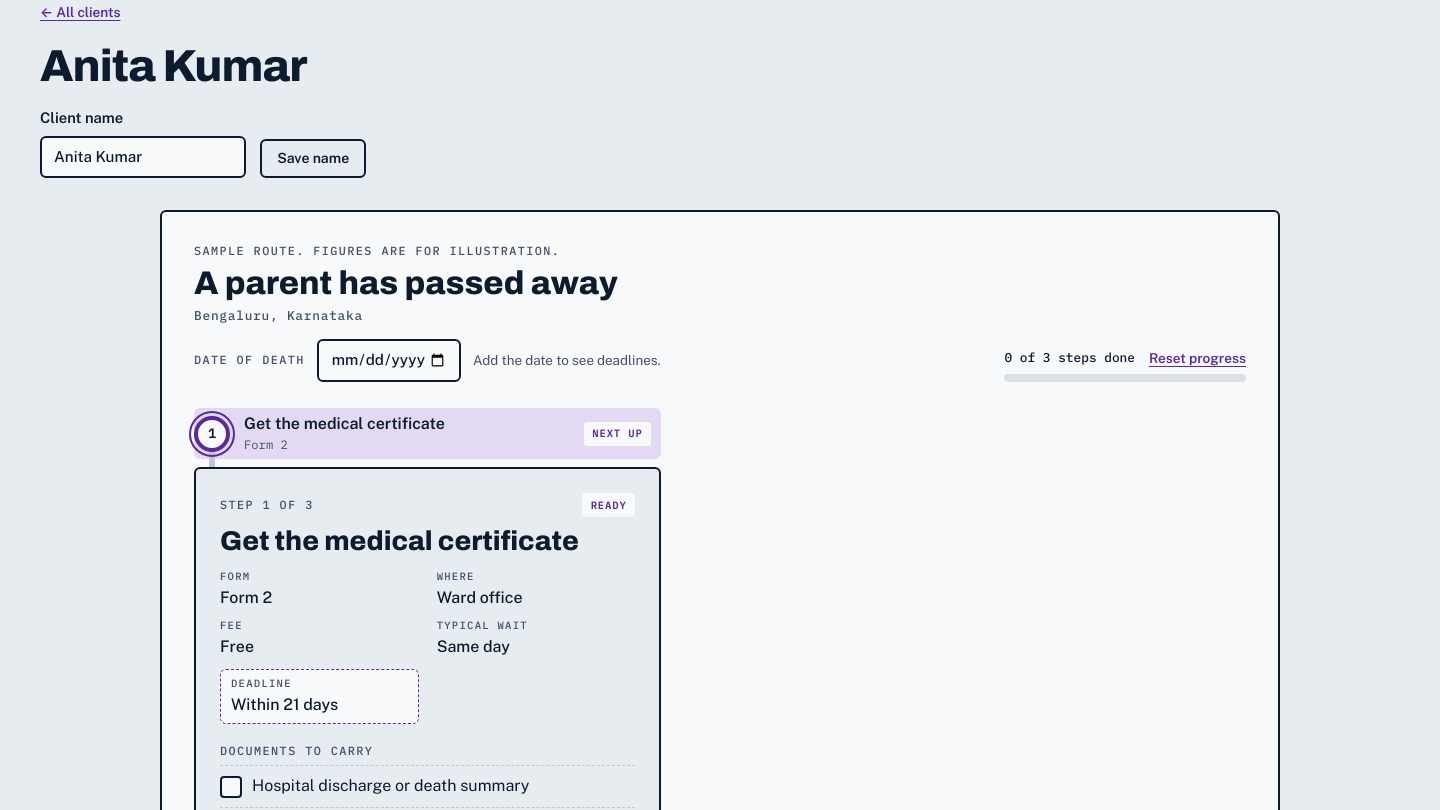
Scenario: ClientPage › renames the client
Replace the text in the field labelled "Client name" with "Anita K." at (143, 157), box top-left (40, 136), bottom-right (246, 178)
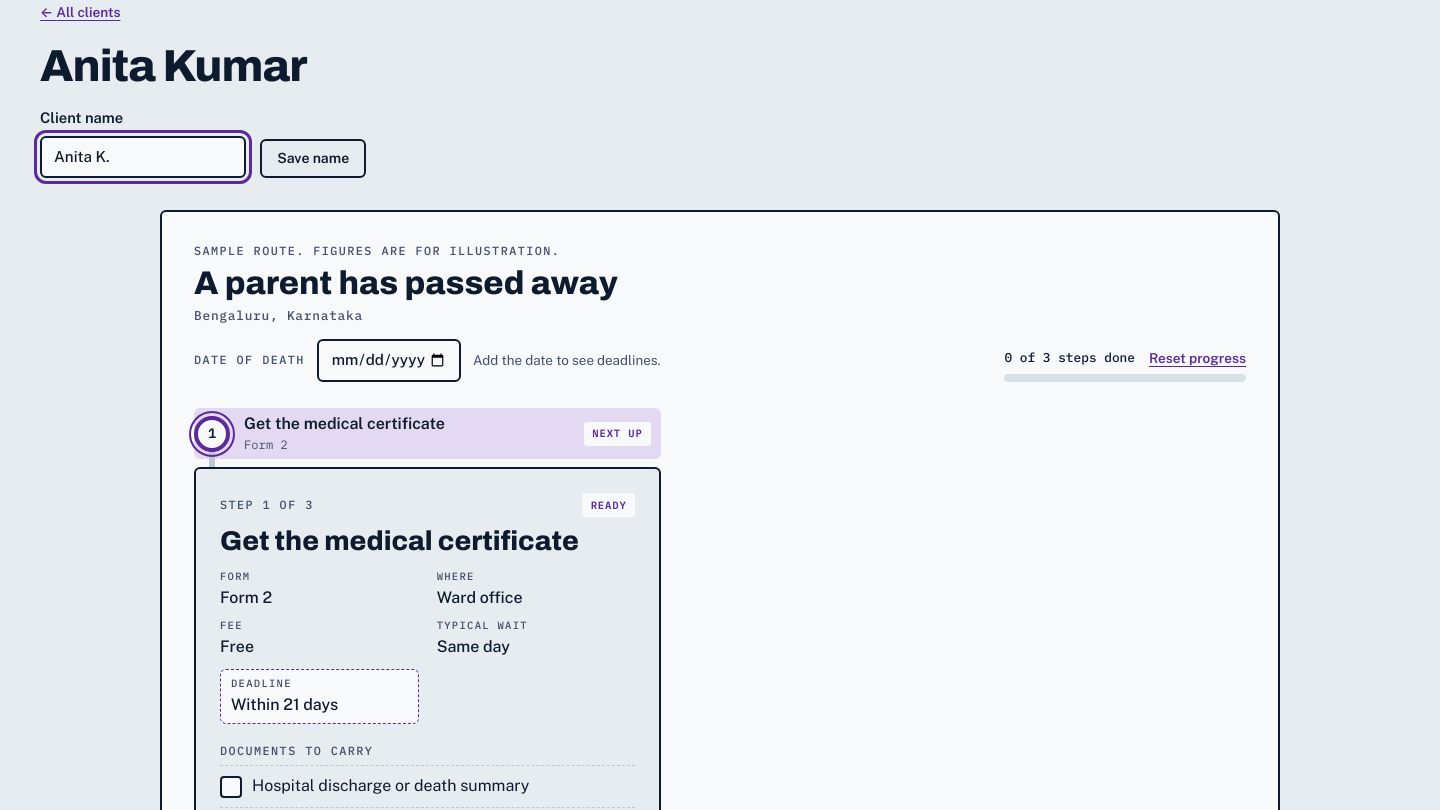
Click the button "Save name" at (313, 158), box top-left (260, 139), bottom-right (366, 178)
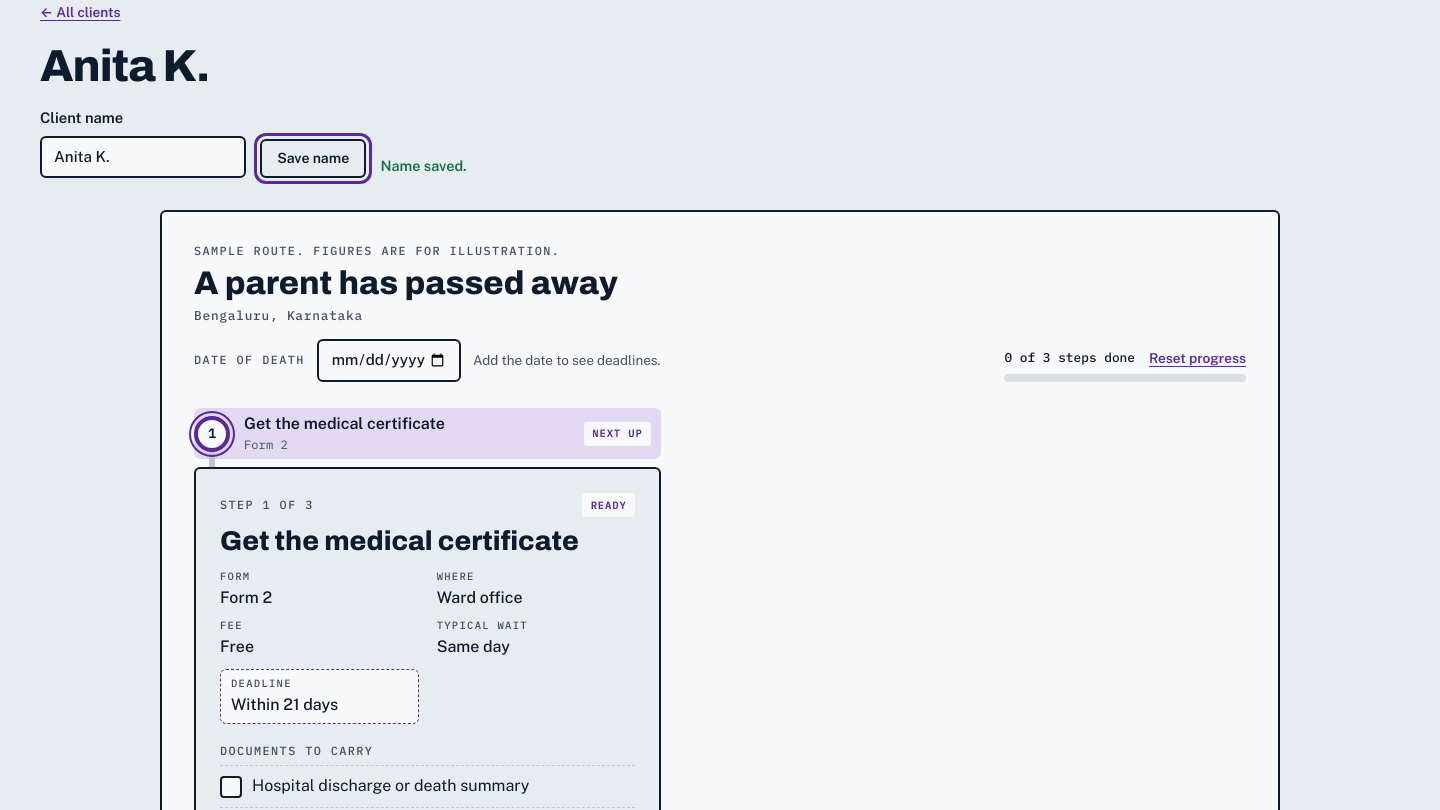
Expected: the heading "Anita K." is shown, top-left (40, 42), bottom-right (209, 90)
Expected: the text "Name saved." is shown, top-left (380, 155), bottom-right (467, 178)
